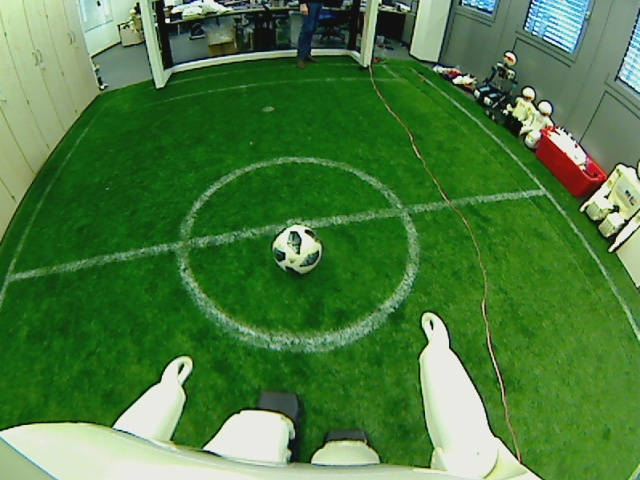ball: (270, 225, 324, 274)
